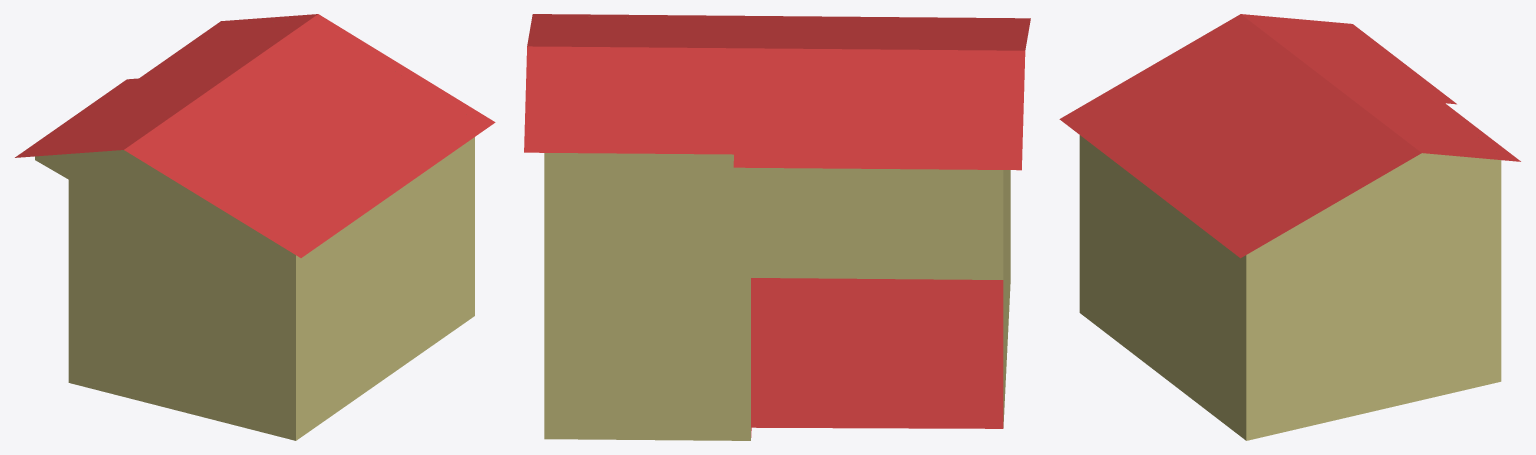
3 renders of one model, left to right at view 1: azimuth 30°, elevation 25°; view 2: azimuth 150°, elevation 25°; view 3: azimuth 270°, elevation 25°, orthographic. The views are drawn at different scales.
Bounding box in the file's own units: 16.38 × 15.43 × 9.37.
